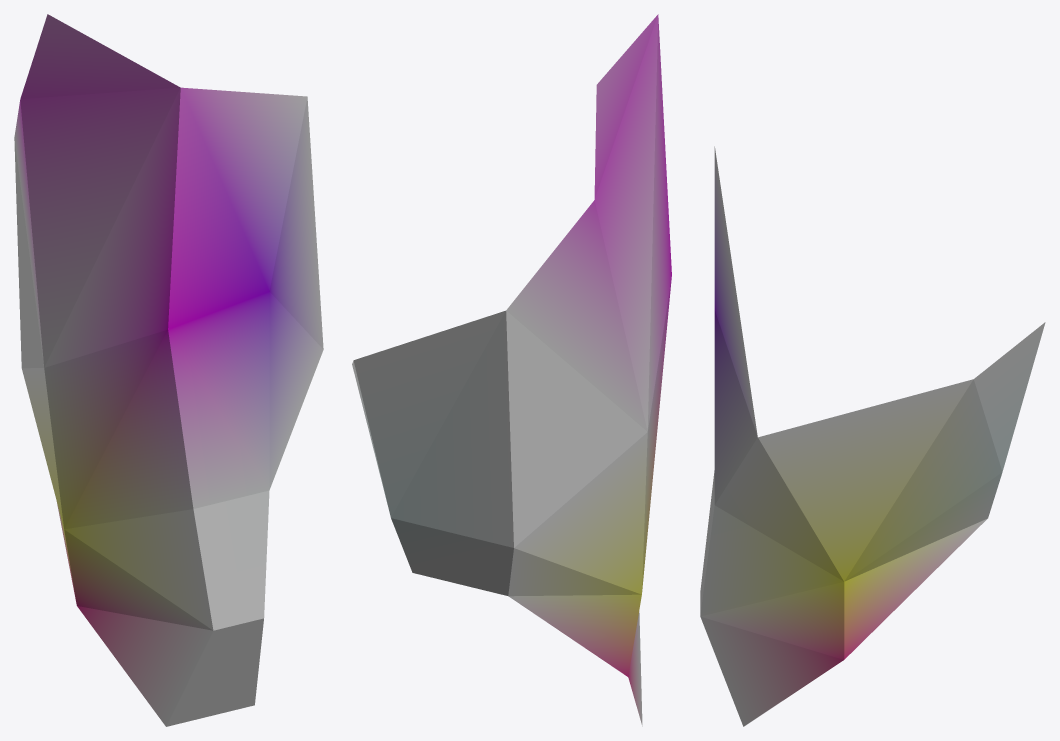
3 renders of one model, left to right at view 1: azimuth 30°, elevation 25°; view 2: azimuth 150°, elevation 25°; view 3: azimuth 270°, elevation 25°, orthographic. The views are drawn at different scales.
Visible parts, largest first — view 1: model_1106; view 2: model_1106; view 3: model_1106.
Part boxes in pixels (x1,y1,x2,y2): model_1106: (14,14,323,726); model_1106: (352,14,671,726); model_1106: (700,146,1045,726).
Bounding box in the file's own units: 18 × 50 × 24.
